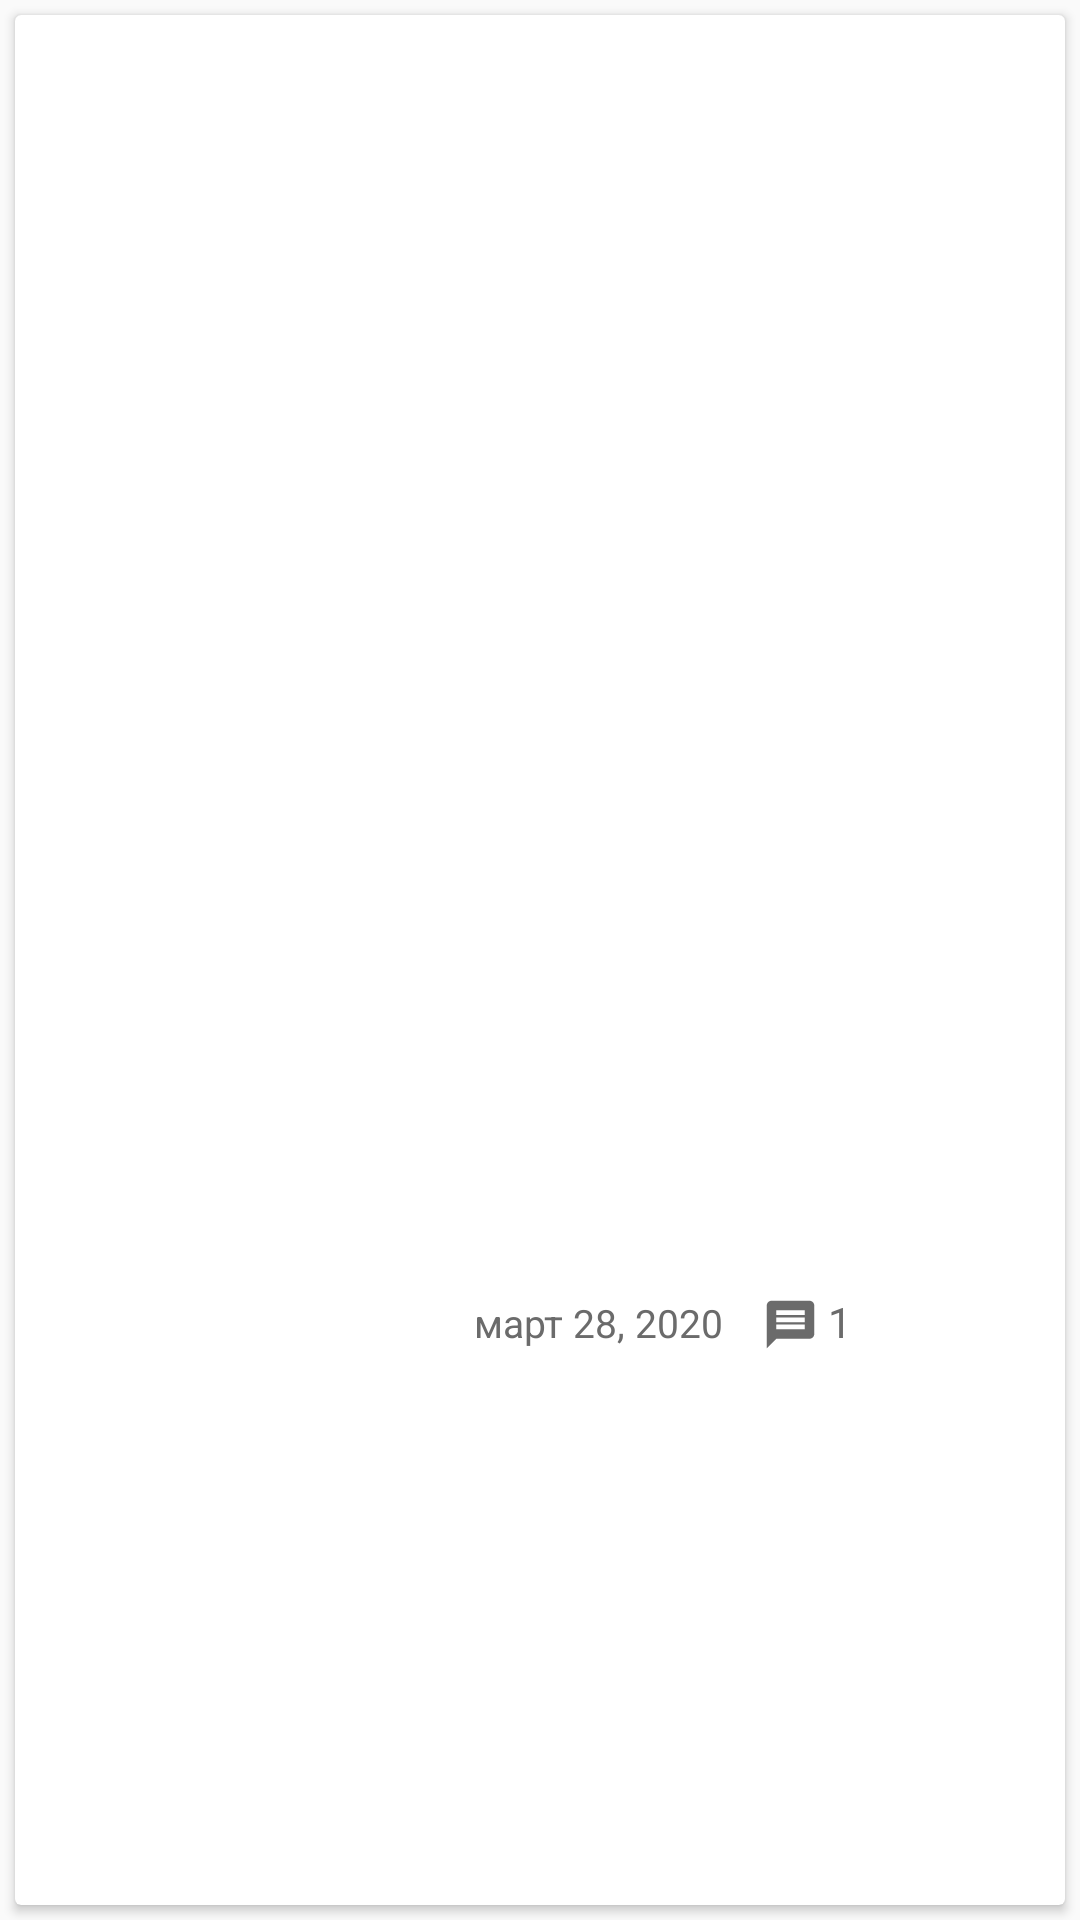

Icon click points for this 1080x1920 phone screenshot, format point (x, y):
message: point (790, 1324)
